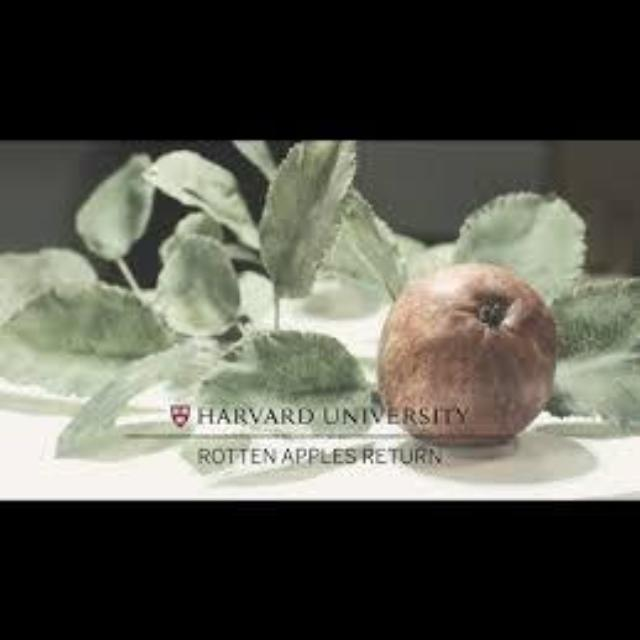apple: (376, 263, 551, 443)
